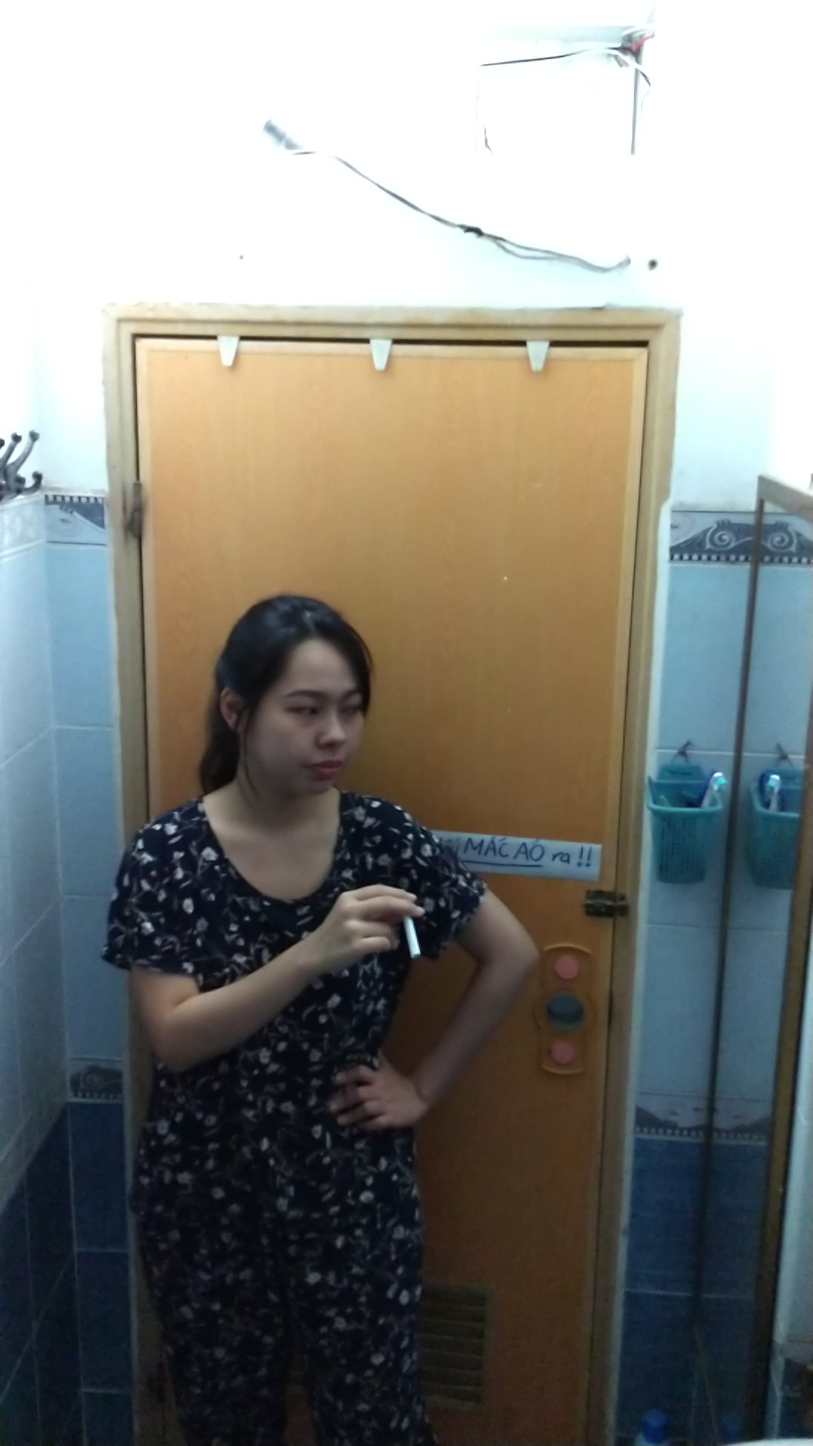cigarette: (398, 914, 425, 963)
person: (107, 596, 511, 1445)
